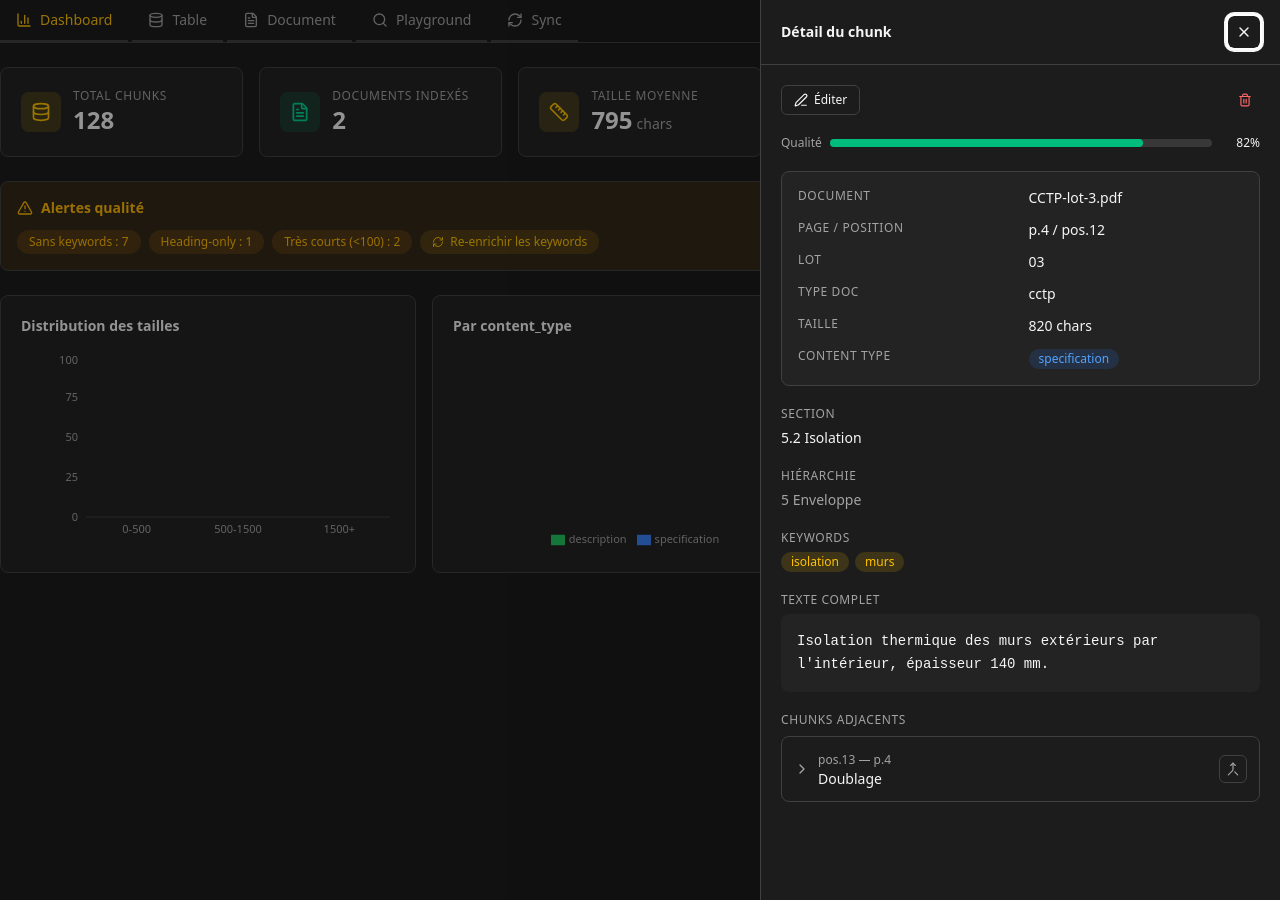
Scenario: AdminDashboard — the side panel belongs to the chunk it shows › disarms the delete confirmation when another chunk is opened from the panel
Step 1. Click the button named "Supprimer le chunk" → (1245,100), box [1230,87,1260,113]
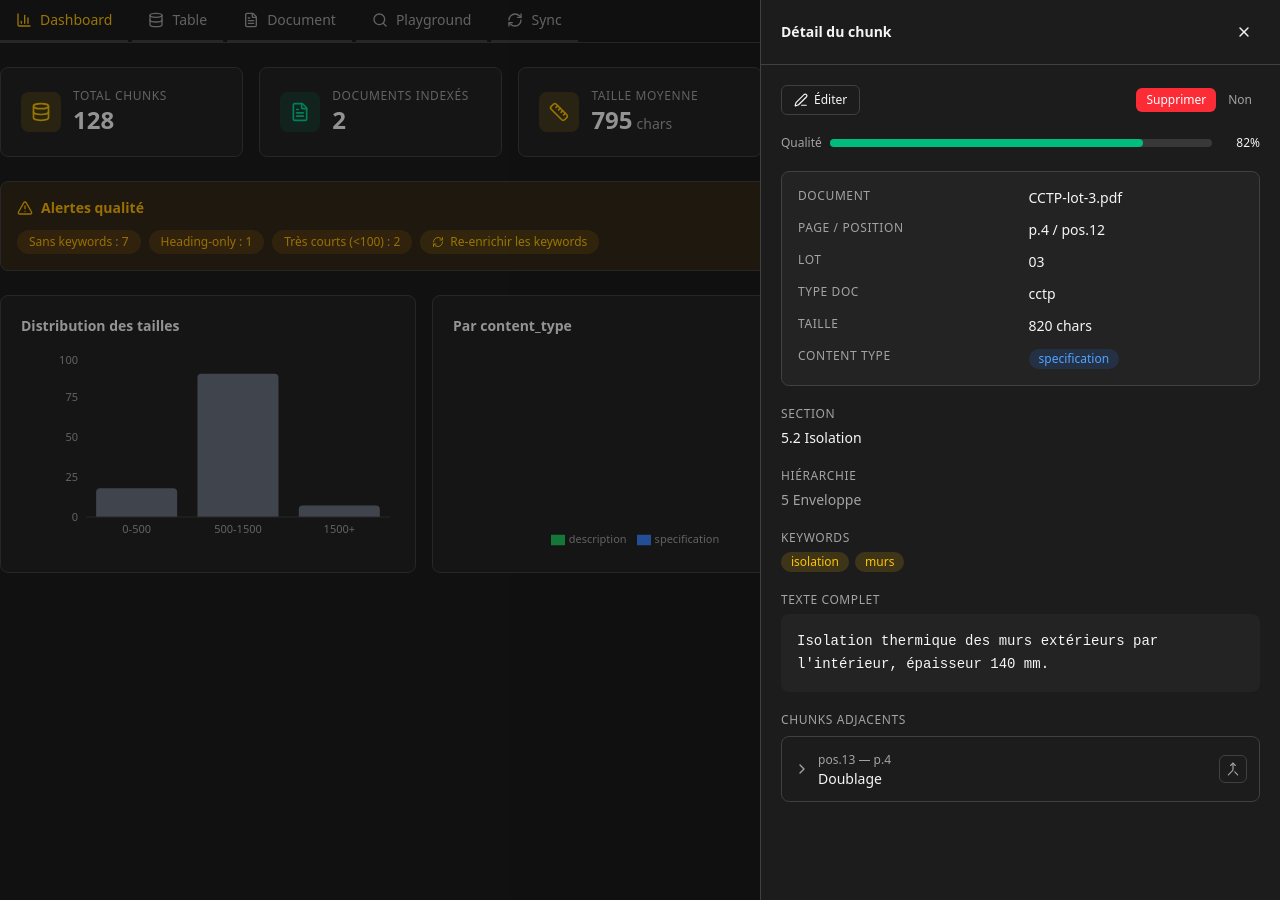
Step 2. Click the button "Supprimer" → (1176,100), box [1136,88,1216,112]
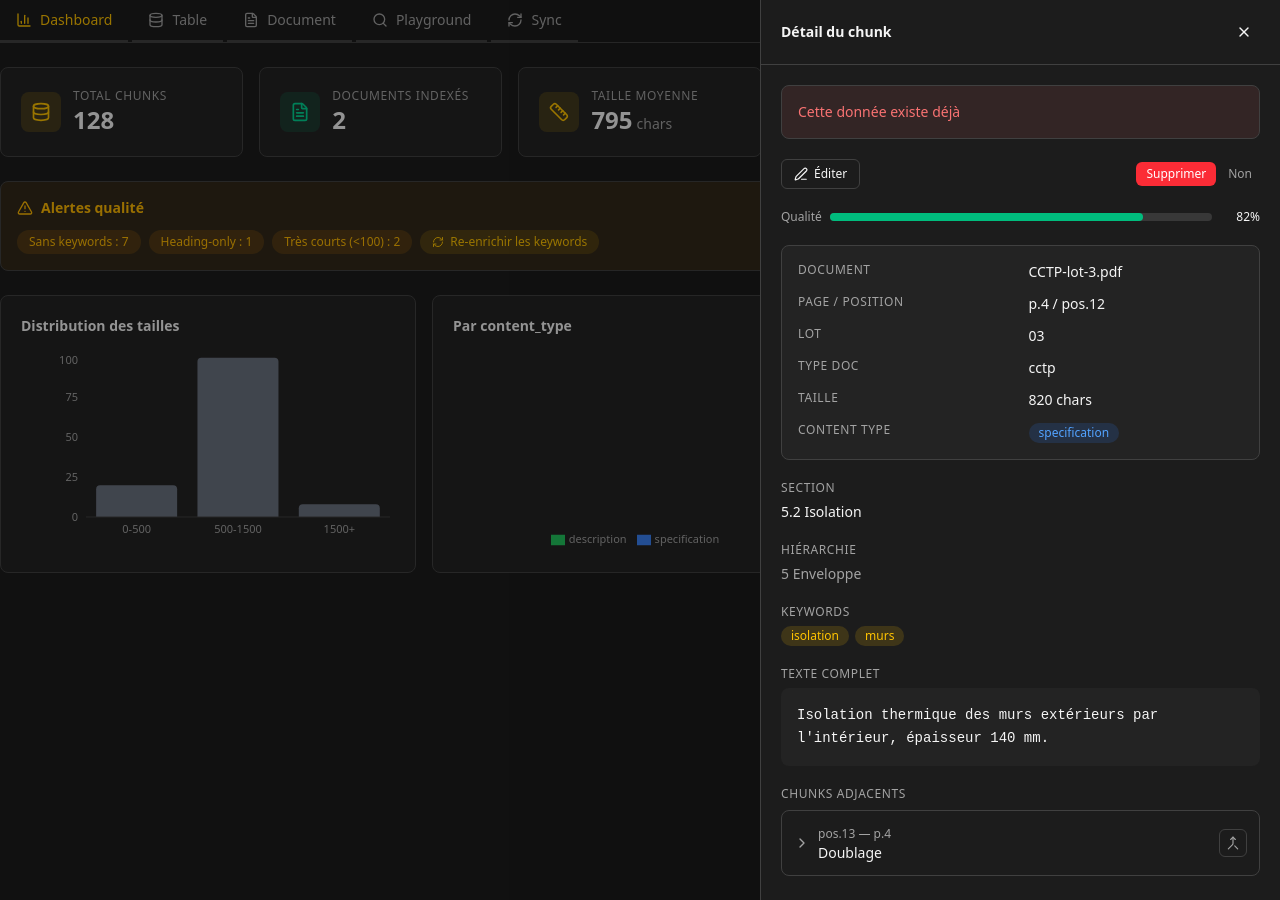
Check: the message "Cette donnée existe déjà" is shown, box [781,85,1260,139]
Step 3. Click the button "pos.13 — p.4 Doublage" → (850,852), box [794,822,1211,862]
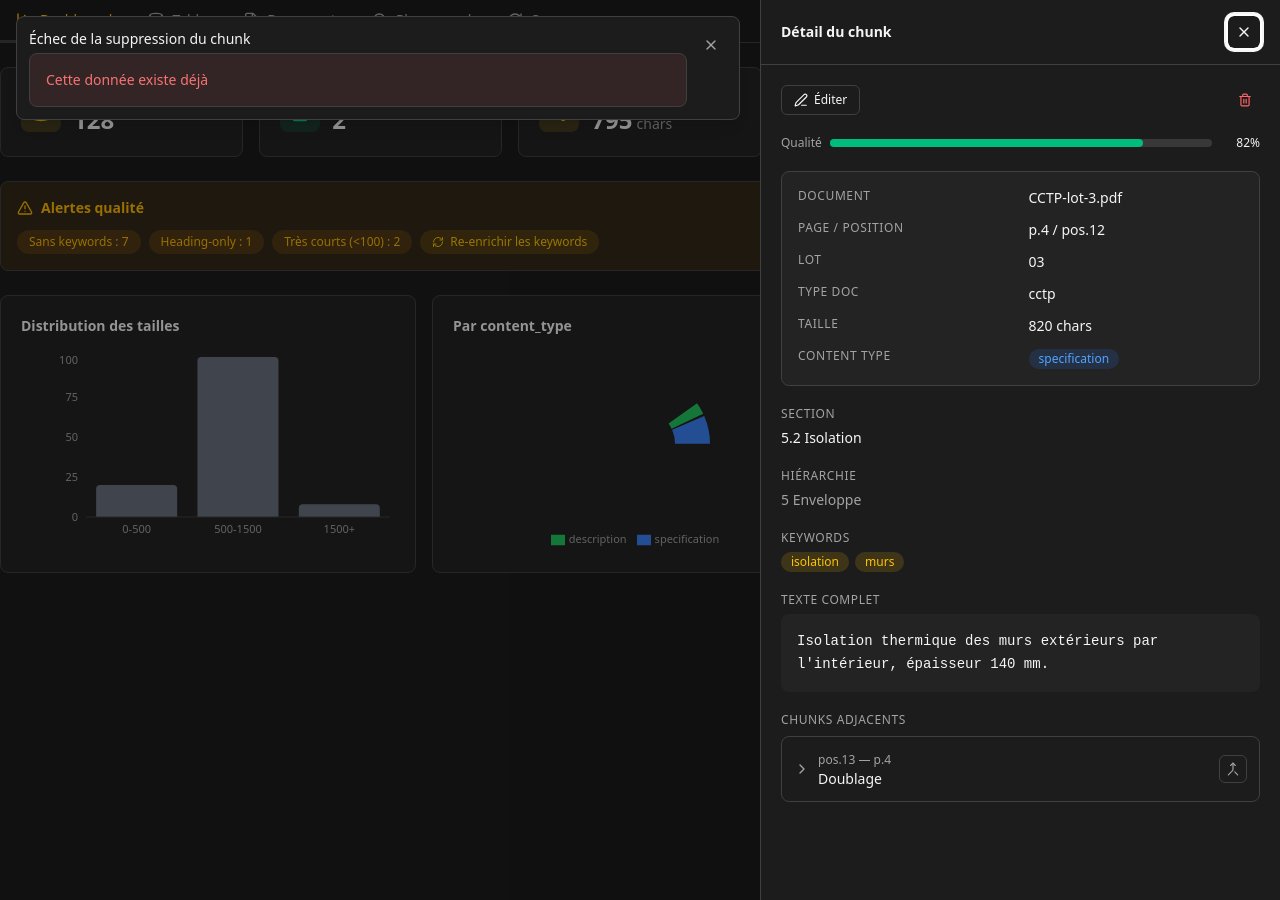
Check: the button "Supprimer" is gone
Check: the button named "Supprimer le chunk" is shown, box [1230,87,1260,113]
